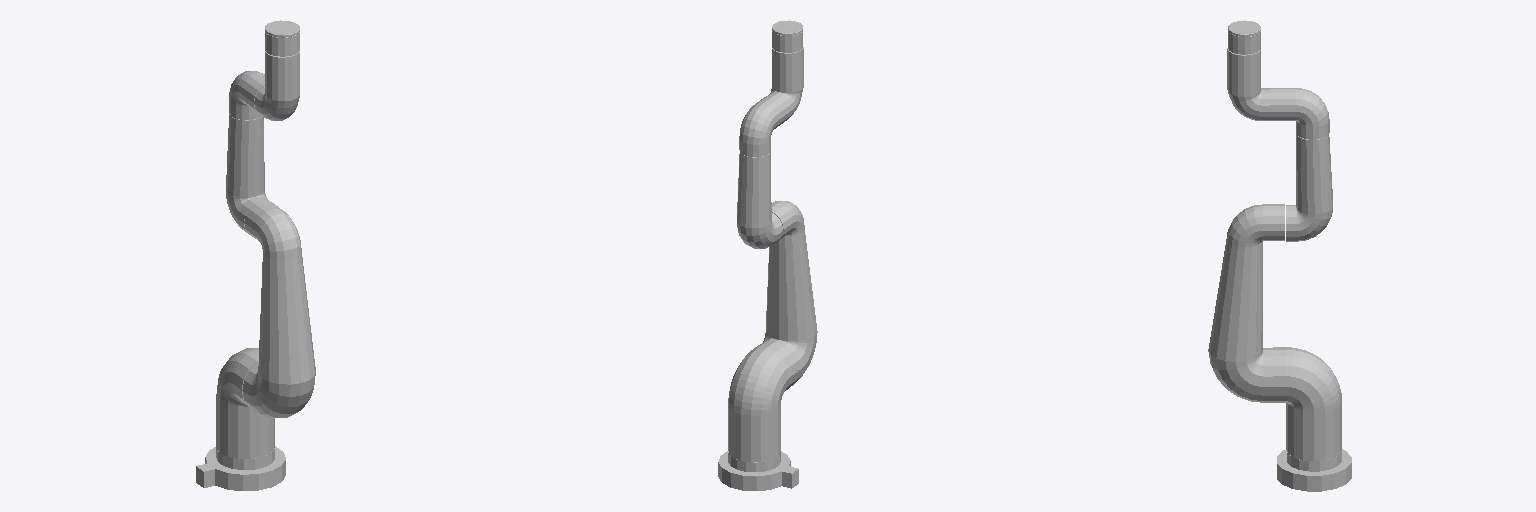
URDF robot description (indy7):
<?xml version="1.0" ?>
<!-- =================================================================================== -->
<!-- |    This document was autogenerated by xacro from indy7.xacro                    | -->
<!-- |    EDITING THIS FILE BY HAND IS NOT RECOMMENDED                                 | -->
<!-- =================================================================================== -->
<robot name="indy7" xmlns:xacro="http://ros.org/wiki/xacro">
  <material name="Red">
    <color rgba="1 0 0 1"/>
  </material>
  <material name="Green">
    <color rgba="0 1 0 1"/>
  </material>
  <material name="Blue">
    <color rgba="0 0 1 1"/>
  </material>    
    <material name="metal_grey">
    <color rgba="0.8 0.8 0.8 1"/>
  </material>    
  <link name="base_link">
    <visual>
      <origin rpy="0 0 0" xyz="0 0 0"/>
      <geometry>
        <mesh filename="meshes/visual/Indy7_0.obj"/>
      </geometry>
      <material name="metal_grey"/>
    </visual>
    <collision>
      <origin rpy="0 0 0" xyz="0 0 0"/>
      <geometry>
        <cylinder length="0.075" radius="0.102"/>
      </geometry>
    </collision>
    <inertial>
      <origin rpy="0 0 0" xyz="0 0 0"/>
      <mass value="1.59306955"/>
      <inertia ixx="+0.00572623" ixy="+0.00000251" ixz="-0.00011380" iyy="+0.00558959" iyz="-0.00000014" izz="+0.00966674"/>
    </inertial>
  </link>
  <link name="shoulder_link">
    <visual>
      <origin rpy="0 0 0" xyz="0 0 0"/>
      <geometry>
        <mesh filename="meshes/visual/Indy7_1.obj"/>
      </geometry>
      <material name="metal_grey"/>
    </visual>
    <collision>
      <origin rpy="0 0 0" xyz="0 0 0.111"/>
      <geometry>
        <cylinder length="0.222" radius="0.075"/>
      </geometry>
    </collision>
    <collision>
      <origin rpy="1.57079632679 0 0" xyz="0 -0.0545 0.222"/>
      <geometry>
        <cylinder length="0.109" radius="0.075"/>
      </geometry>
    </collision>
    <inertial>
      <origin rpy="0 0 0" xyz="0 0 0"/>
      <mass value="11.8030102"/>
      <inertia ixx="+0.15418559" ixy="-0.00000235" ixz="+0.00001739" iyy="+0.12937017" iyz="-0.04854267" izz="+0.05964415"/>
    </inertial>
  </link>
  <link name="upper_arm_link">
    <visual>
      <origin rpy="0 0 0" xyz="0 0 0"/>
      <geometry>
        <mesh filename="meshes/visual/Indy7_2.obj"/>
      </geometry>
      <material name="metal_grey"/>
    </visual>
    <collision>
      <origin rpy="1.57079632679 0 -1.57079632679" xyz="-0.225 0 0.09"/>
      <geometry>
        <cylinder length="0.450" radius="0.063"/>
      </geometry>
    </collision>
    <collision>
      <origin rpy="0 0 0" xyz="0 0 0.045"/>
      <geometry>
        <cylinder length="0.09" radius="0.075"/>
      </geometry>
    </collision>
    <collision>
      <origin rpy="0 0 0" xyz="-0.45 0 0.02975 "/>
      <geometry>
        <cylinder length="0.1205" radius="0.045"/>
      </geometry>
    </collision>
    <inertial>
      <origin rpy="0 0 0" xyz="0 0 0"/>
      <mass value="7.99292141"/>
      <inertia ixx="+0.29356980" ixy="-0.00000040" ixz="+0.00001441" iyy="+0.28094142" iyz="+0.03727972" izz="+0.03620609"/>
    </inertial>
  </link>
  <link name="forearm_link">
    <visual>
      <origin rpy="0 0 0" xyz="0 0 0"/>
      <geometry>
        <mesh filename="meshes/visual/Indy7_3.obj"/>
      </geometry>
      <material name="metal_grey"/>
    </visual>
    <collision>
      <origin rpy="1.57079632679 0 -1.57079632679" xyz="-0.1335 0 -0.075"/>
      <geometry>
        <cylinder length="0.267" radius="0.045"/>
      </geometry>
    </collision>
    <collision>
      <origin rpy="0 0 0" xyz="0 0 -0.0375"/>
      <geometry>
        <cylinder length="0.075" radius="0.045"/>
      </geometry>
    </collision>
    <inertial>
      <origin rpy="0 0 0" xyz="0 0 0"/>
      <mass value="2.99134127"/>
      <inertia ixx="+0.03424593" ixy="+0.00000149" ixz="+0.00000724" iyy="+0.03406024" iyz="+0.00186009" izz="+0.00450477"/>
    </inertial>
  </link>
  <link name="wrist_1_link">
    <visual>
      <origin rpy="0 0 0" xyz="0 0 0"/>
      <geometry>
        <mesh filename="meshes/visual/Indy7_4.obj"/>
      </geometry>
      <material name="metal_grey"/>
    </visual>
    <collision>
      <origin rpy="1.57079632679 0 0" xyz="0 -0.057 0.083"/>
      <geometry>
        <cylinder length="0.114" radius="0.045"/>
      </geometry>
    </collision>
    <collision>
      <origin rpy="1.57079632679 0 0" xyz="0 -0.057 0.083"/>
      <geometry>
        <cylinder length="0.114" radius="0.045"/>
      </geometry>
    </collision>
    <collision>
      <origin rpy="0 0 0" xyz="0 0 0.0415"/>
      <geometry>
        <cylinder length="0.083" radius="0.045"/>
      </geometry>
    </collision>
    <inertial>
      <origin rpy="0 0 0" xyz="0 0 0"/>
      <mass value="2.12317035"/>
      <inertia ixx="+0.00670405" ixy="+0.00000375" ixz="+0.00000150" iyy="+0.00279246" iyz="-0.00127967" izz="+0.00619341"/>
    </inertial>
  </link>
  <link name="wrist_2_link">
    <visual>
      <origin rpy="0 0 0" xyz="0 0 0"/>
      <geometry>
        <mesh filename="meshes/visual/Indy7_5.obj"/>
      </geometry>
      <material name="metal_grey"/>
    </visual>
    <collision>
      <origin rpy="1.57079632679 0 -1.57079632679" xyz="-0.084 0 0.069"/>
      <geometry>
        <cylinder length="0.168" radius="0.045"/>
      </geometry>
    </collision>
    <collision>
      <origin rpy="0 0 0" xyz="-0 0 0.0345"/>
      <geometry>
        <cylinder length="0.069" radius="0.045"/>
      </geometry>
    </collision>
    <inertial>
      <origin rpy="0 0 0" xyz="0 0 0"/>
      <mass value="2.28865091"/>
      <inertia ixx="+0.00994891" ixy="+0.00000014" ixz="+0.00000321" iyy="+0.00978189" iyz="-0.00093546" izz="+0.00271492"/>
    </inertial>
  </link>
  <link name="wrist_3_link">
    <visual>
      <origin rpy="0 0 0" xyz="0 0 0"/>
      <geometry>
        <mesh filename="meshes/visual/Indy7_6.obj"/>
      </geometry>
      <material name="metal_grey"/>
    </visual>
    <collision>
      <origin rpy="0 0 0" xyz="0 0 0.03"/>
      <geometry>
        <cylinder length="0.06" radius="0.045"/>
      </geometry>
    </collision>
    <inertial>
      <origin rpy="0 0 0" xyz="0 0 0"/>
      <mass value="0.40083918"/>
      <inertia ixx="0.00043534" ixy="+0.00000013" ixz="-0.00000002" iyy="0.00044549" iyz="+0.00000051" izz="0.00059634"/>
    </inertial>
  </link>

  <joint name="joint0" type="revolute">
    <parent link="base_link"/>
    <child link="shoulder_link"/>
    <origin rpy="0 0 0" xyz="0 0 0.0775"/>
    <axis xyz="0 0 1"/>
    <limit effort="1000" lower="-3.05432619099" upper="3.05432619099" velocity="1"/>
    <dynamics damping="0.0" friction="0.0"/>
  </joint>
  <transmission name="joint0_trans">
    <type>transmission_interface/SimpleTransmission</type>
    <joint name="joint0">
      <hardwareInterface>EffortJointInterface</hardwareInterface>
    </joint>
    <actuator name="joint0_actuator">
      <hardwareInterface>EffortJointInterface</hardwareInterface>
    </actuator>
  </transmission>

  <joint name="joint1" type="revolute">
    <parent link="shoulder_link"/>
    <child link="upper_arm_link"/>
    <origin rpy="1.57079632679 1.57079632679 0" xyz="0 -0.10900000 0.22200000"/>
    <axis xyz="0 0 1"/>
    <limit effort="1000" lower="-3.05432619099" upper="3.05432619099" velocity="1"/>
  </joint>
  <transmission name="joint1_trans">
    <type>transmission_interface/SimpleTransmission</type>
    <joint name="joint1">
      <hardwareInterface>EffortJointInterface</hardwareInterface>
    </joint>
    <actuator name="joint1_actuator">
      <hardwareInterface>EffortJointInterface</hardwareInterface>
    </actuator>
  </transmission>

  <joint name="joint2" type="revolute">
    <parent link="upper_arm_link"/>
    <child link="forearm_link"/>
    <origin rpy="0 0 0" xyz="-0.45000000 +0.00000000 -0.03050000"/>
    <axis xyz="0 0 1"/>
    <limit effort="1000" lower="-3.05432619099" upper="3.05432619099" velocity="1"/>
  </joint>

    <transmission name="joint2_trans">
    <type>transmission_interface/SimpleTransmission</type>
    <joint name="joint2">
      <hardwareInterface>EffortJointInterface</hardwareInterface>
    </joint>
    <actuator name="joint2_actuator">
      <hardwareInterface>EffortJointInterface</hardwareInterface>
    </actuator>
  </transmission>

  <joint name="joint3" type="revolute">
    <parent link="forearm_link"/>
    <child link="wrist_1_link"/>
    <origin rpy="-1.57079632679 0 1.57079632679" xyz="-0.26700000 +0.00000000 -0.07500000"/>
    <axis xyz="0 0 1"/>
    <limit effort="1000" lower="-3.05432619099" upper="3.05432619099" velocity="1"/>
  </joint>

    <transmission name="joint3_trans">
    <type>transmission_interface/SimpleTransmission</type>
    <joint name="joint3">
      <hardwareInterface>EffortJointInterface</hardwareInterface>
    </joint>
    <actuator name="joint3_actuator">
      <hardwareInterface>EffortJointInterface</hardwareInterface>
    </actuator>
  </transmission>
  <joint name="joint4" type="revolute">
    <parent link="wrist_1_link"/>
    <child link="wrist_2_link"/>
    <origin rpy="1.57079632679 1.57079632679 0" xyz="+0.00000000 -0.11400000 +0.08300000"/>
    <axis xyz="0 0 1"/>
    <limit effort="1000" lower="-3.05432619099" upper="3.05432619099" velocity="1"/>
  </joint>
    <transmission name="joint4_trans">
    <type>transmission_interface/SimpleTransmission</type>
    <joint name="joint4">
      <hardwareInterface>EffortJointInterface</hardwareInterface>
    </joint>
    <actuator name="joint4_actuator">
      <hardwareInterface>EffortJointInterface</hardwareInterface>
    </actuator>
  </transmission>
  <joint name="joint5" type="revolute">
    <parent link="wrist_2_link"/>
    <child link="wrist_3_link"/>
    <origin rpy="-1.57079632679 0 1.57079632679" xyz="-0.16800000 +0.00000000 +0.06900000 "/>
    <axis xyz="0 0 1"/>
    <limit effort="1000" lower="-3.75245789179" upper="3.75245789179" velocity="1"/>
  </joint>

    <transmission name="joint5_trans">
    <type>transmission_interface/SimpleTransmission</type>
    <joint name="joint5">
      <hardwareInterface>EffortJointInterface</hardwareInterface>
    </joint>
    <actuator name="joint5_actuator">
      <hardwareInterface>EffortJointInterface</hardwareInterface>
    </actuator>
  </transmission>
  <link name="tcp">
    <visual>
      <origin rpy="1.570796 0 0" xyz="0 0 0"/>
      <geometry>
        <mesh filename="meshes/visual/axis.obj" scale="0.01 0.01 0.01"/>
      </geometry>	        
    </visual>
        
    <inertial>
      <mass value="0.0000"/>
      <origin rpy="0 0 0" xyz="0.0 0.0 0.0"/>
      <inertia ixx="0.0" ixy="0.0" ixz="0.0" iyy="0.0" iyz="0.0" izz="0.0"/>
    </inertial>
  </link>

  <joint name="tcp_joint" type="fixed">
    <parent link="wrist_3_link"/>
    <child link="tcp"/>
    <origin rpy="0.0 0.0 0.0" xyz="0 0 0.06"/>
  </joint> 


</robot>

--- Facts derived from the render (not from the file) ---
3 views of the same robot in one strip: view 1: azimuth 30°, elevation 25°; view 2: azimuth 150°, elevation 25°; view 3: azimuth 270°, elevation 25° (orthographic).
Robot: indy7 — 8 links, 7 joints (6 revolute, 1 fixed); root link base_link; default pose: all joints at 0.
Visible links, largest first — view 1: upper_arm_link, shoulder_link, forearm_link, base_link, wrist_2_link, wrist_1_link, wrist_3_link; view 2: upper_arm_link, shoulder_link, forearm_link, base_link, wrist_1_link, wrist_2_link, wrist_3_link; view 3: upper_arm_link, shoulder_link, forearm_link, base_link, wrist_2_link, wrist_1_link, wrist_3_link.
Boxes of the visible links, <box> form: upper_arm_link: <box>242,201,315,417</box>; shoulder_link: <box>216,348,274,458</box>; forearm_link: <box>226,114,268,234</box>; base_link: <box>196,446,285,490</box>; wrist_2_link: <box>254,51,299,120</box>; wrist_1_link: <box>229,71,264,119</box>; wrist_3_link: <box>265,20,299,56</box>; upper_arm_link: <box>762,201,817,385</box>; shoulder_link: <box>728,342,796,462</box>; forearm_link: <box>737,152,782,248</box>; base_link: <box>718,451,798,490</box>; wrist_1_link: <box>739,94,788,156</box>; wrist_2_link: <box>769,47,803,120</box>; wrist_3_link: <box>772,20,802,52</box>; upper_arm_link: <box>1208,204,1284,402</box>; shoulder_link: <box>1273,347,1341,460</box>; forearm_link: <box>1286,134,1332,241</box>; base_link: <box>1277,449,1351,491</box>; wrist_2_link: <box>1227,48,1269,120</box>; wrist_1_link: <box>1270,88,1329,139</box>; wrist_3_link: <box>1228,20,1260,54</box>.
Bounding box of the posed robot: 0.2343 × 0.3841 × 1.33 m (x, y, z).
Meshes: 8 distinct files referenced, 7 mesh visuals loaded (7 OBJ); not drawn: 1 (reference not matched to a file when rendering).
